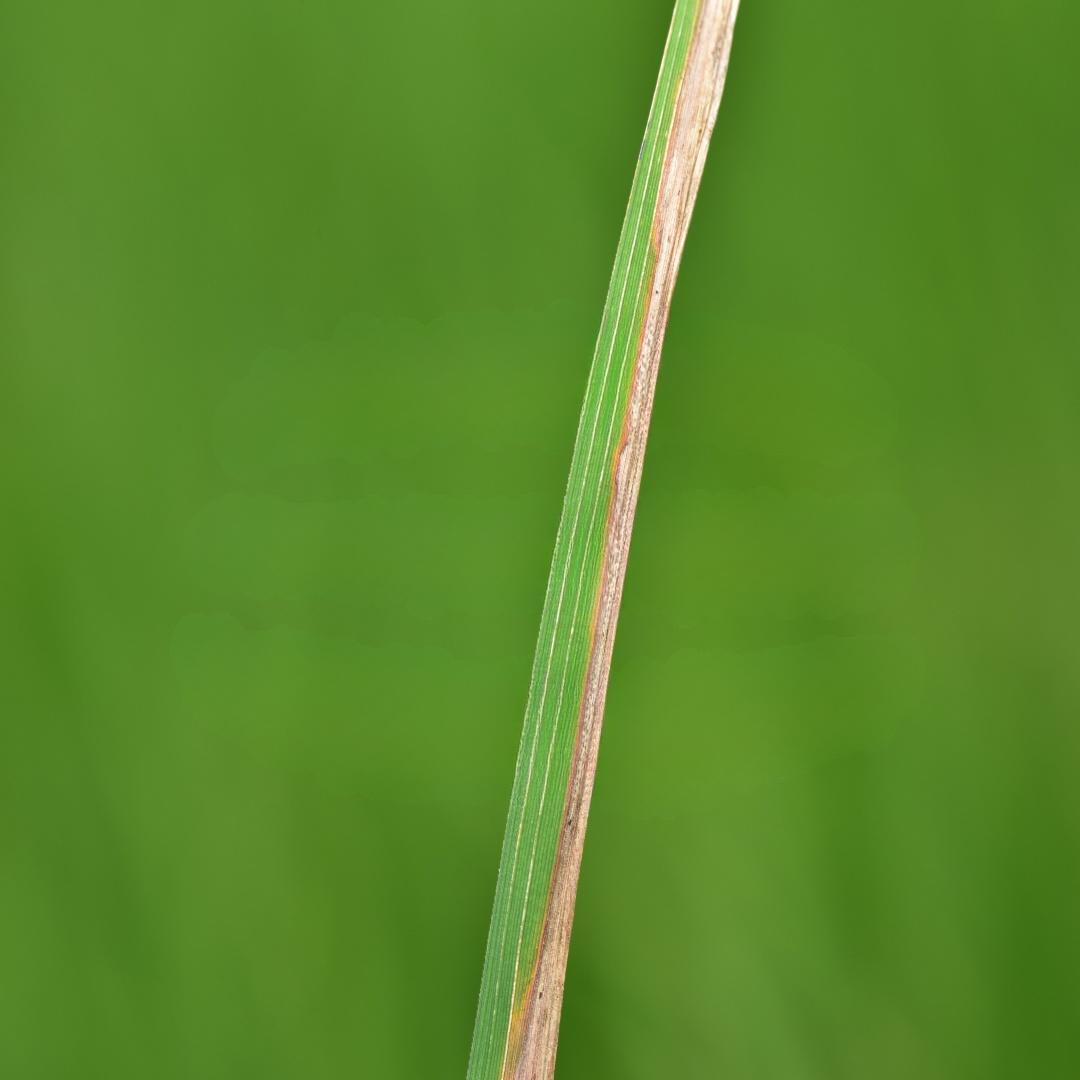BLB: (500, 0, 739, 1079)
